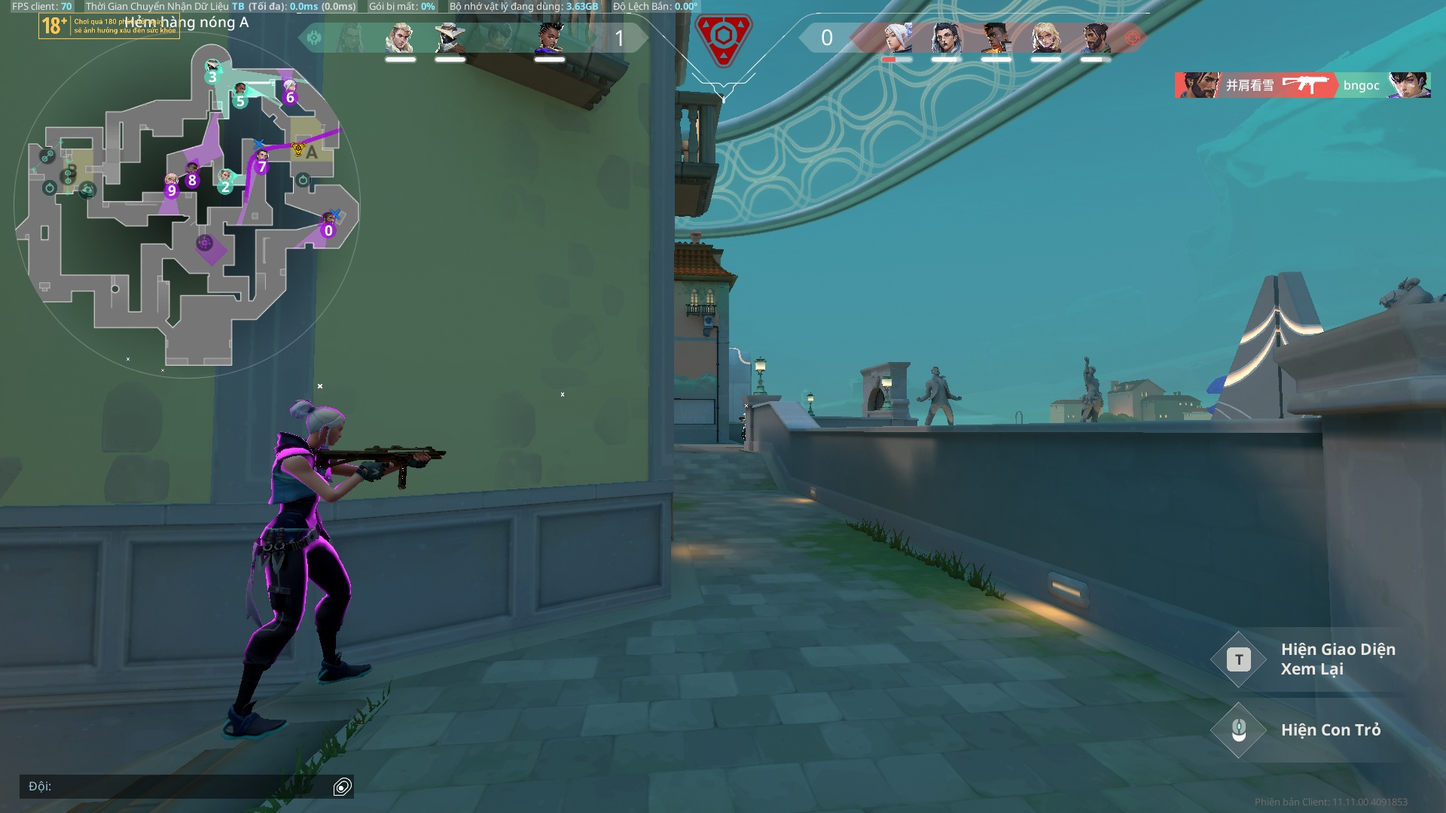body: (273, 441, 329, 528)
head: (307, 406, 348, 450)
